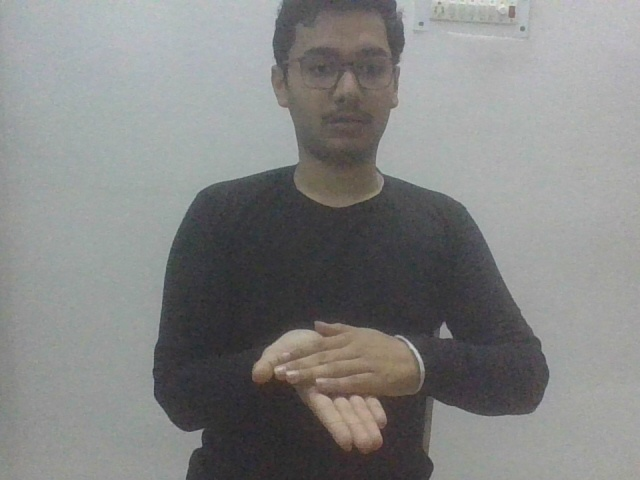H: (250, 317, 426, 455)
